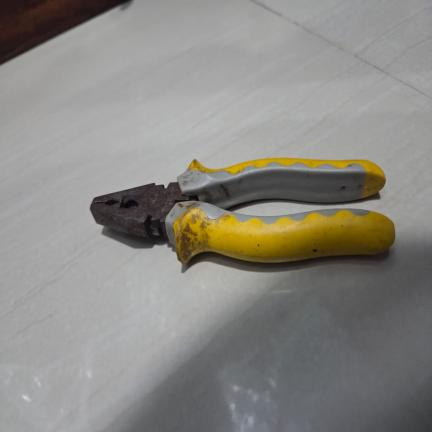karat: (91, 183, 197, 239)
